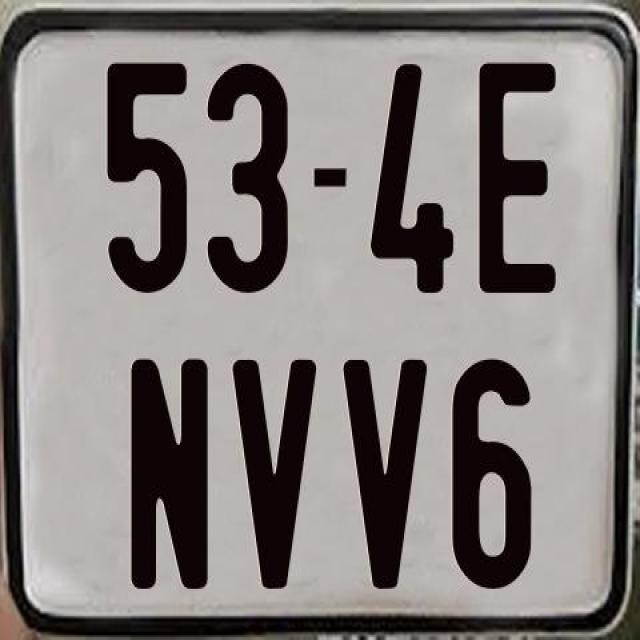3: (204, 59, 286, 298)
4: (371, 59, 456, 290)
5: (106, 61, 190, 292)
6: (451, 355, 534, 586)
E: (478, 58, 560, 292)
N: (126, 358, 206, 598)
V: (232, 360, 320, 592), (343, 355, 428, 584)
